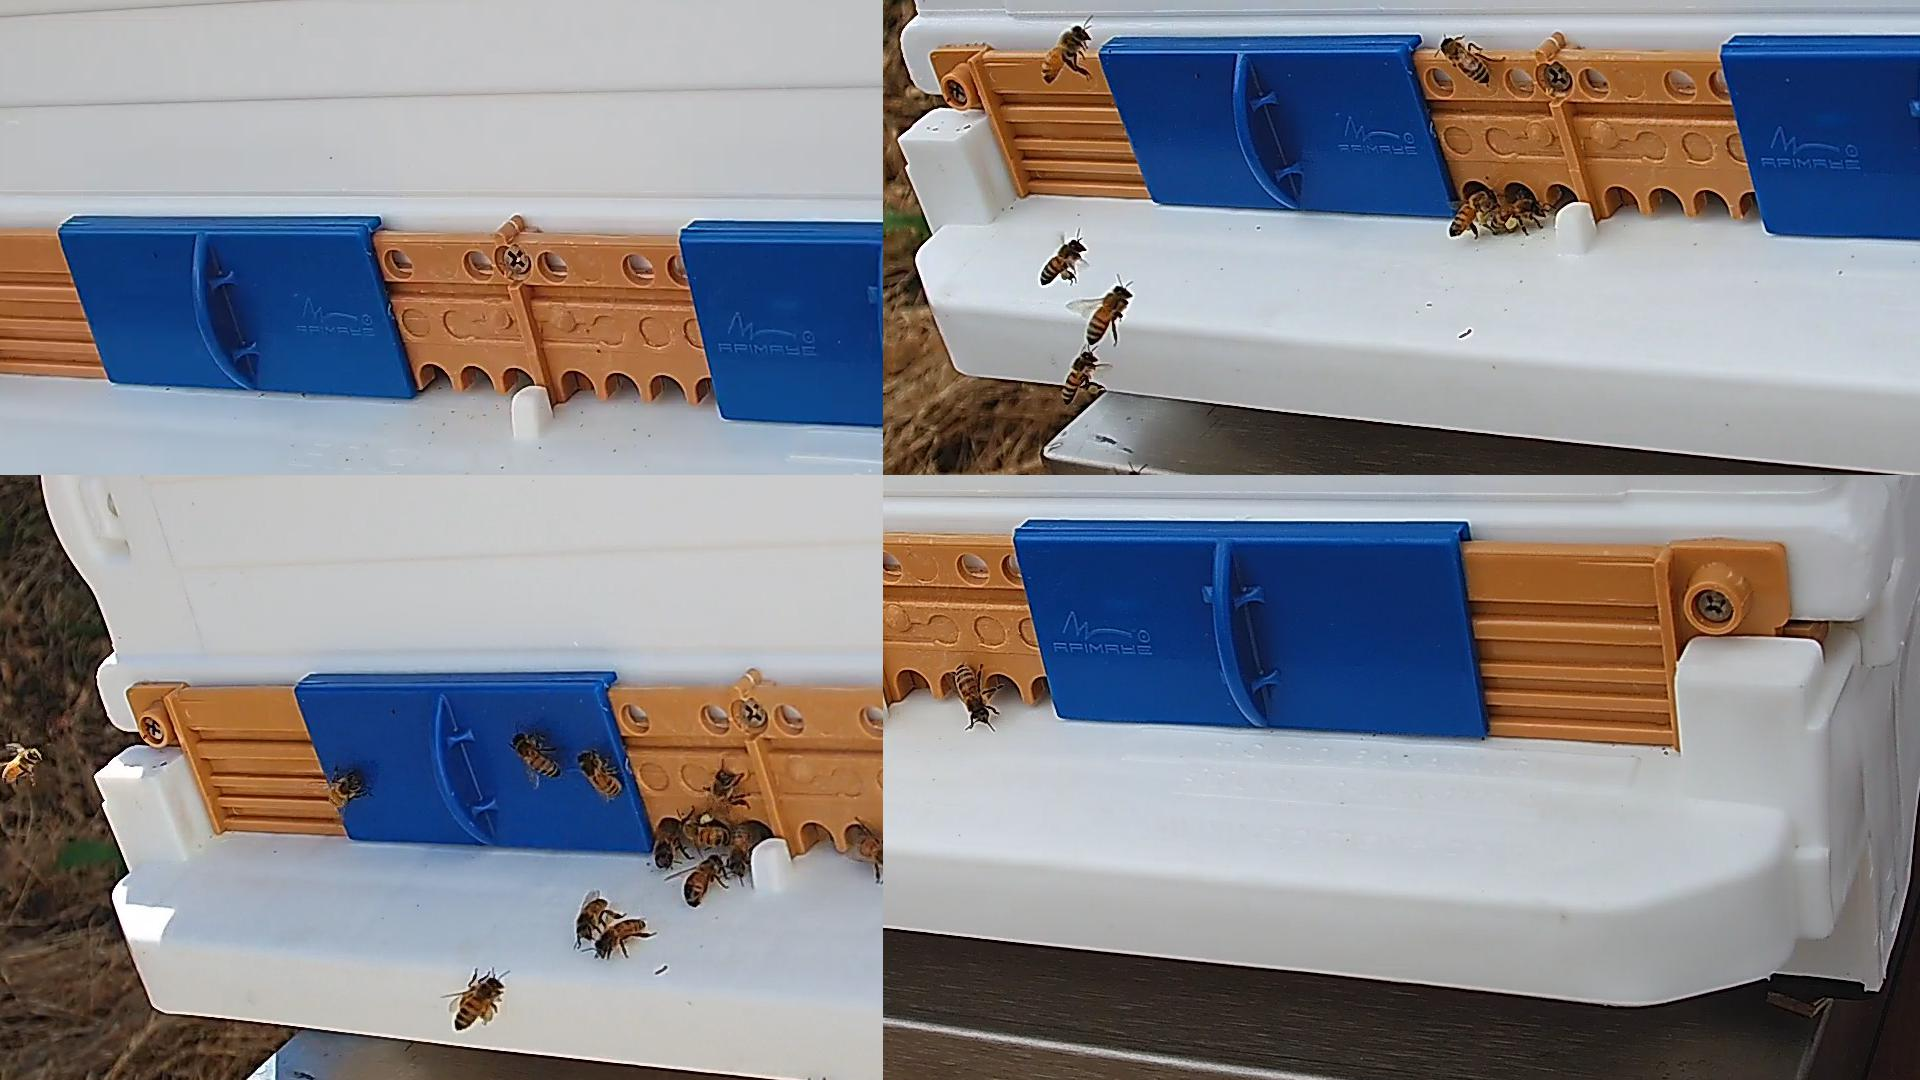bee: (1040, 25, 1089, 80), (1087, 286, 1131, 343), (953, 663, 992, 727), (510, 732, 559, 779), (1440, 38, 1490, 83), (683, 855, 724, 907), (580, 752, 622, 793), (596, 920, 645, 955), (578, 895, 609, 939), (3, 749, 40, 783), (328, 774, 361, 808), (712, 771, 737, 812), (729, 823, 749, 874), (655, 824, 678, 866), (858, 832, 882, 866)
pollenbee: (452, 977, 504, 1031), (1039, 237, 1085, 286), (1062, 352, 1100, 404), (1451, 190, 1490, 237), (1491, 200, 1547, 233), (682, 816, 729, 844)
